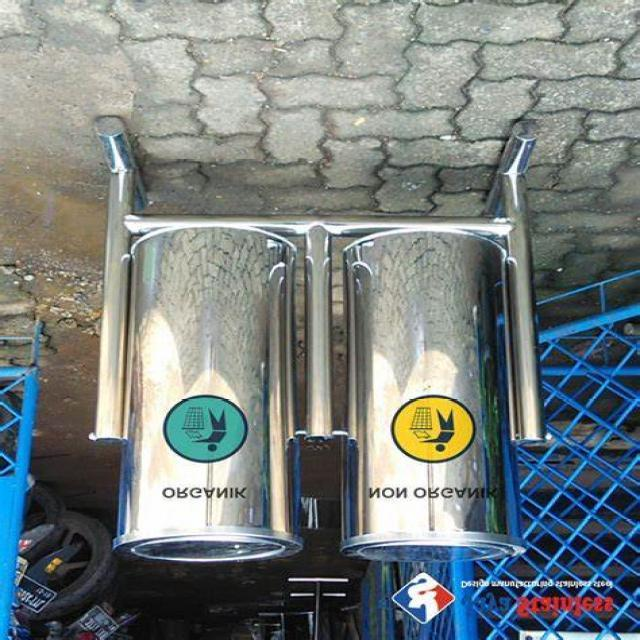garbage container: (72, 213, 343, 577), (326, 208, 536, 590)
